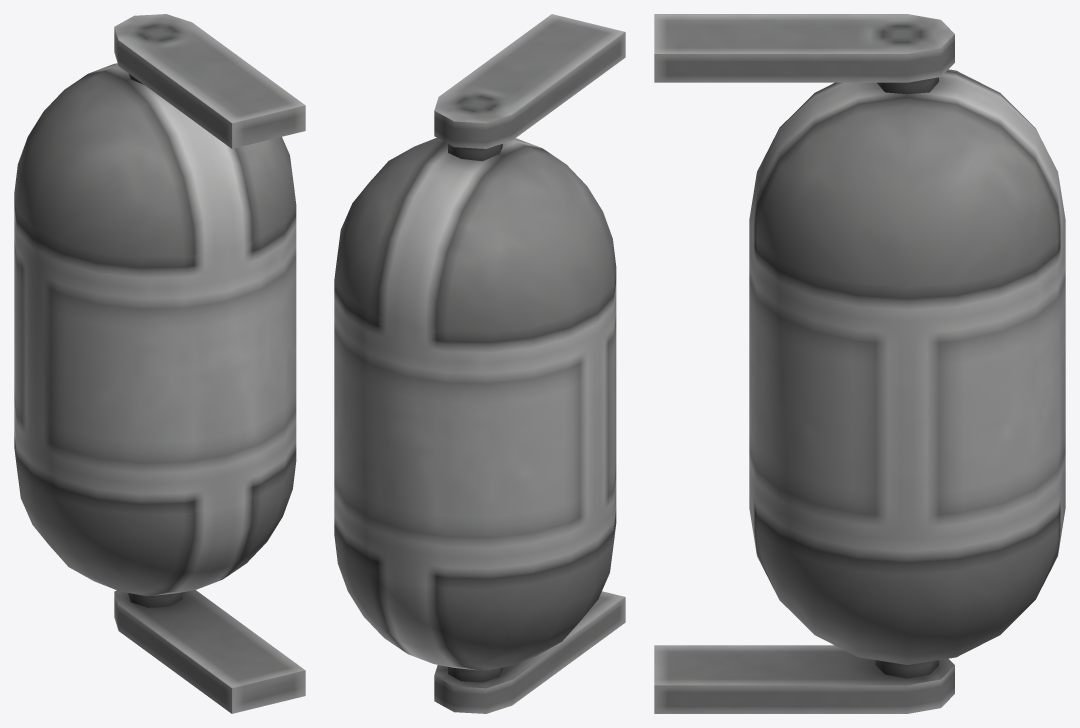
File: 4mv_fuel_tank_srf_2_mount.obj
3 views of the same model, side by side, from view 1: azimuth 30°, elevation 25°; view 2: azimuth 150°, elevation 25°; view 3: azimuth 270°, elevation 25° (orthographic). The views are drawn at different scales.
Parts seen in each view (by area): view 1: mesh1; view 2: mesh1; view 3: mesh1.
Part boxes in pixels (left/top/right/bottom): mesh1: left=14, top=14, right=305, bottom=713; mesh1: left=334, top=14, right=625, bottom=713; mesh1: left=654, top=14, right=1065, bottom=713.
Size of the model in its own units: 0.125 by 0.2875 by 0.1625.
1 material, 1 textured.
